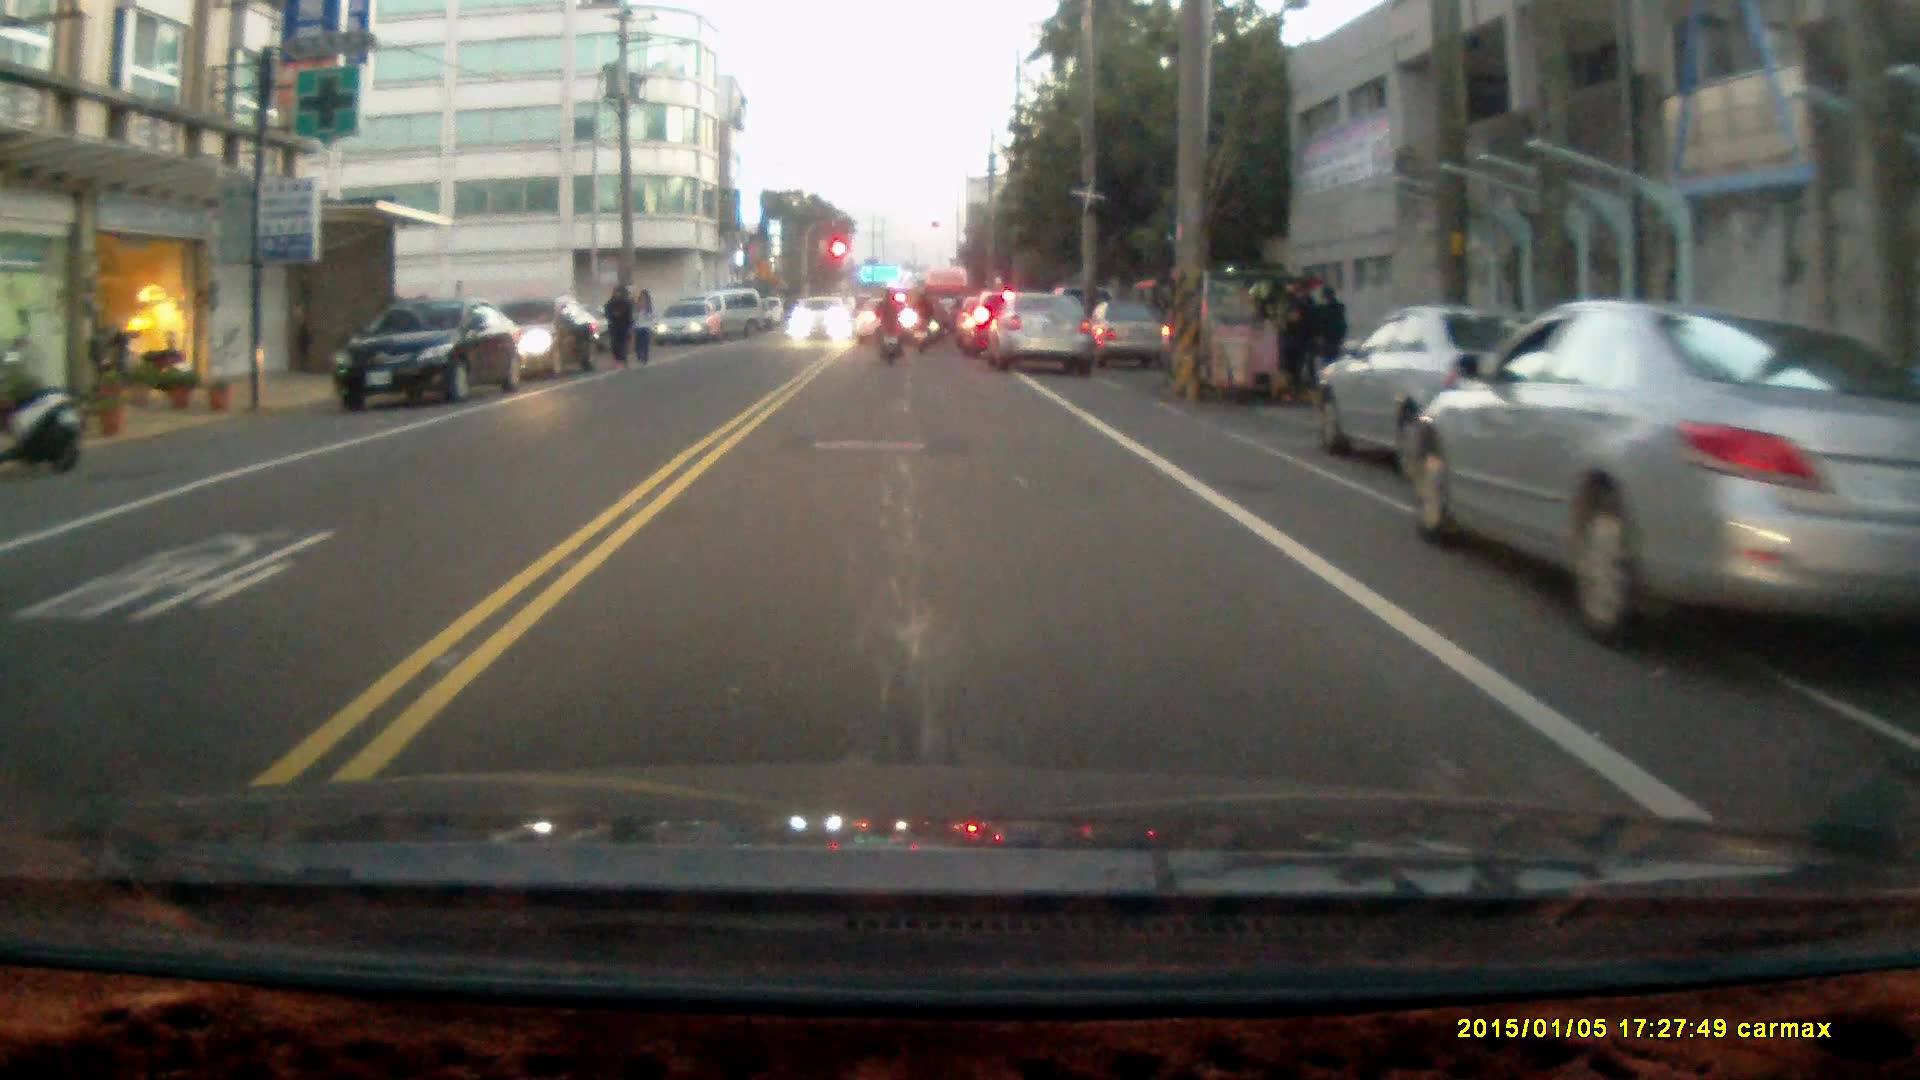pedestrian: (1311, 283, 1348, 383), (601, 280, 634, 368), (630, 283, 654, 366)
rider: (871, 286, 904, 367), (906, 289, 935, 354)
vehicle: (1406, 297, 1920, 655), (1317, 301, 1568, 479), (1151, 263, 1322, 400), (329, 295, 530, 409), (491, 295, 608, 378), (990, 284, 1100, 368), (656, 299, 727, 348), (790, 294, 854, 345)
